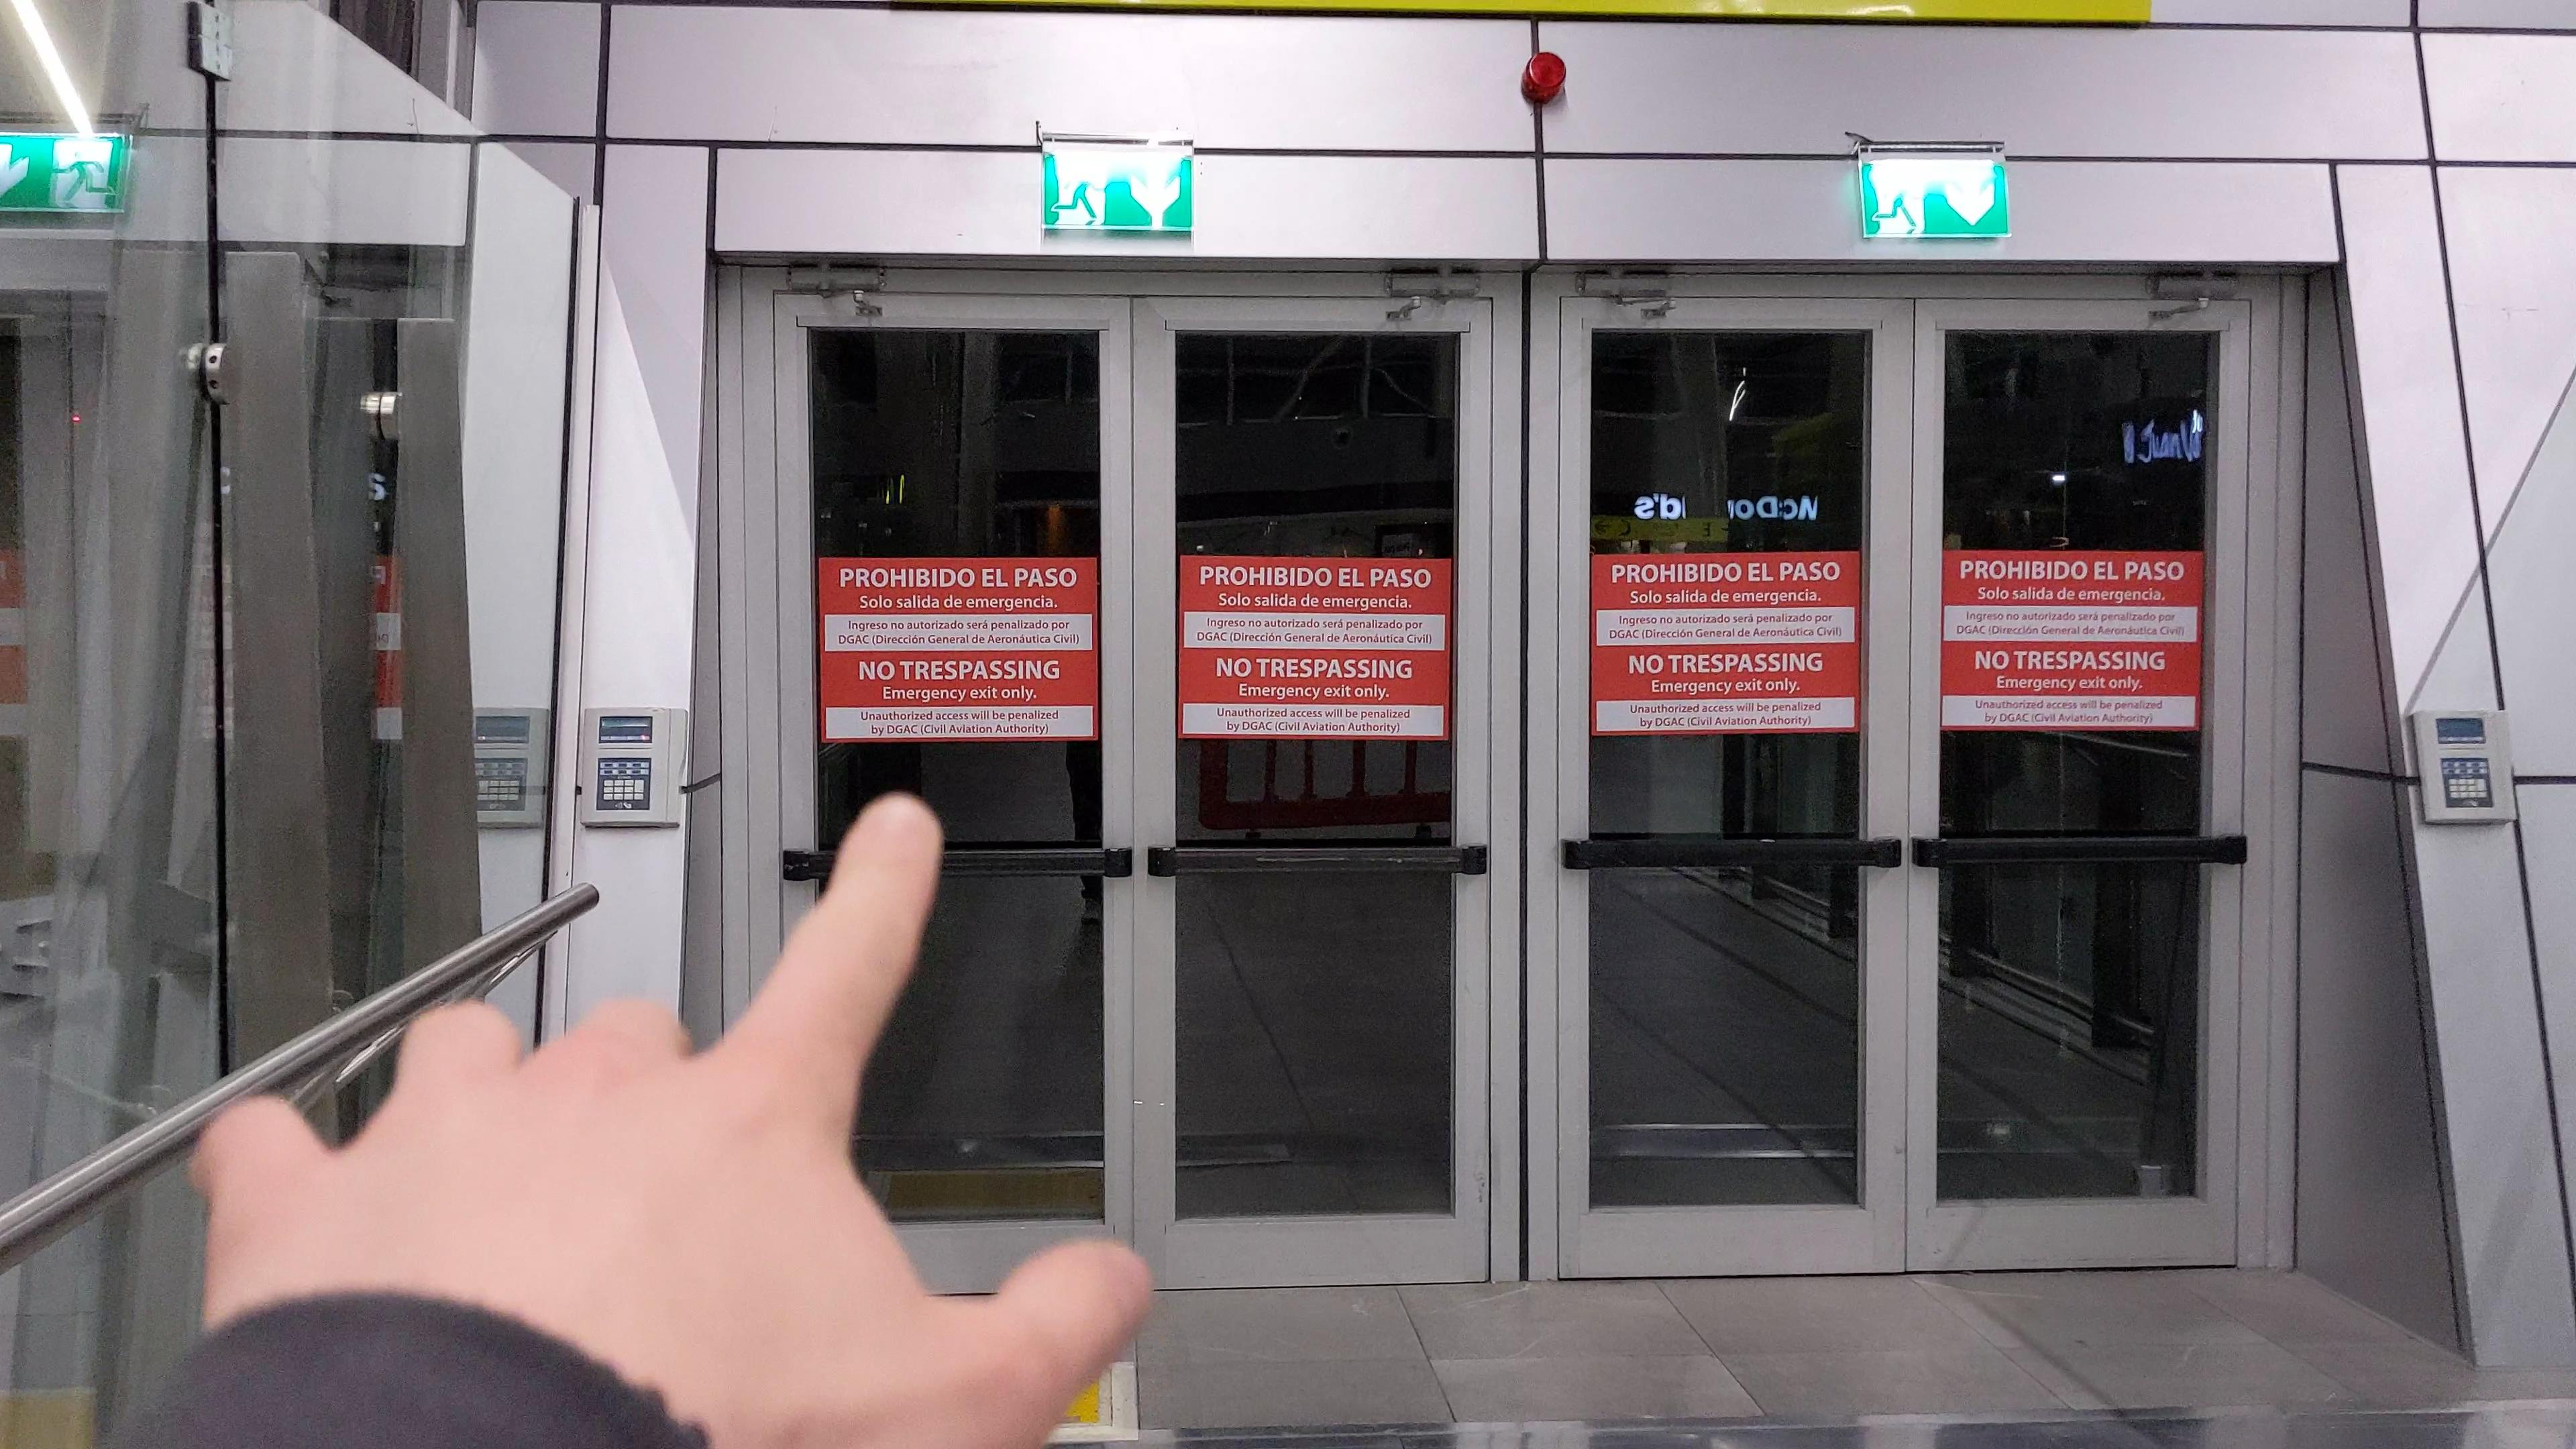emergency down arrow: (1129, 159, 1184, 219), (1943, 170, 1997, 226)
emergency exit: (1047, 156, 1115, 226), (1868, 170, 1930, 237)
no trespassing: (823, 561, 1097, 740), (1939, 548, 2203, 731), (1182, 559, 1454, 731), (1189, 561, 1451, 732)
